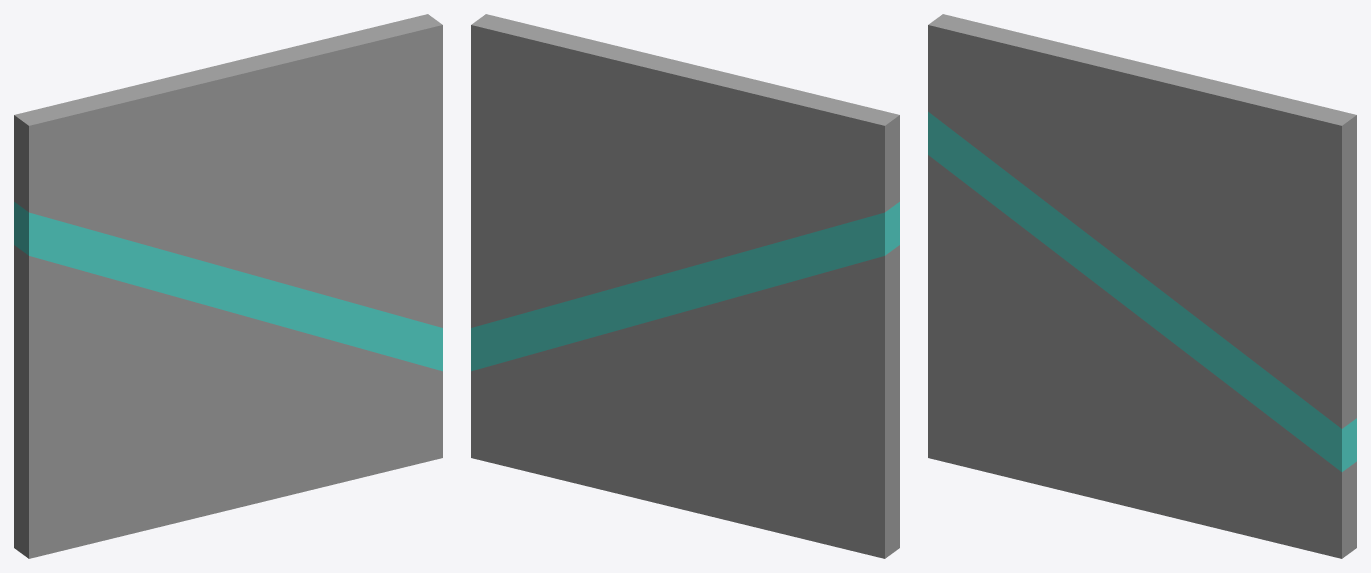
File: ModularWalkways_StairWall.fbx
3 renders of one model, left to right at view 1: azimuth 30°, elevation 25°; view 2: azimuth 150°, elevation 25°; view 3: azimuth 330°, elevation 25°, orthographic.
Parts seen in each view (by area): view 1: pCube25; view 2: pCube25; view 3: pCube25.
Part boxes in pixels (bbox=[...]): pCube25: bbox=[14, 14, 442, 558]; pCube25: bbox=[471, 14, 899, 558]; pCube25: bbox=[928, 14, 1356, 558].
Bounding box in the file's own units: 1600 × 1600 × 100.
